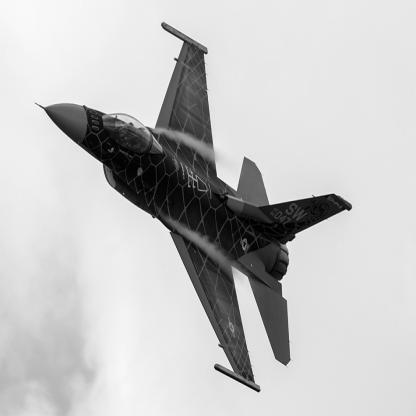F16: (35, 22, 354, 394)
